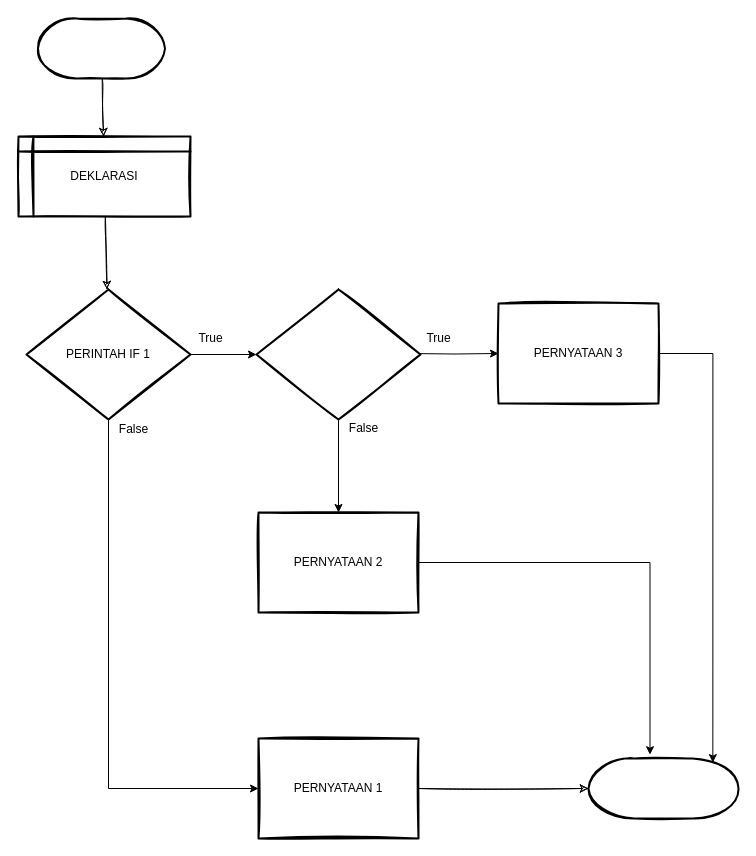
Some shapes in this 756 by 856 pixel diagram are drawn without their labels. Each missing label, with the centre of its shape:
"MULAI" belongs at (101,48).
"PERINTAH IF 2" belongs at (338,354).
"SELESAI" belongs at (663,788).
